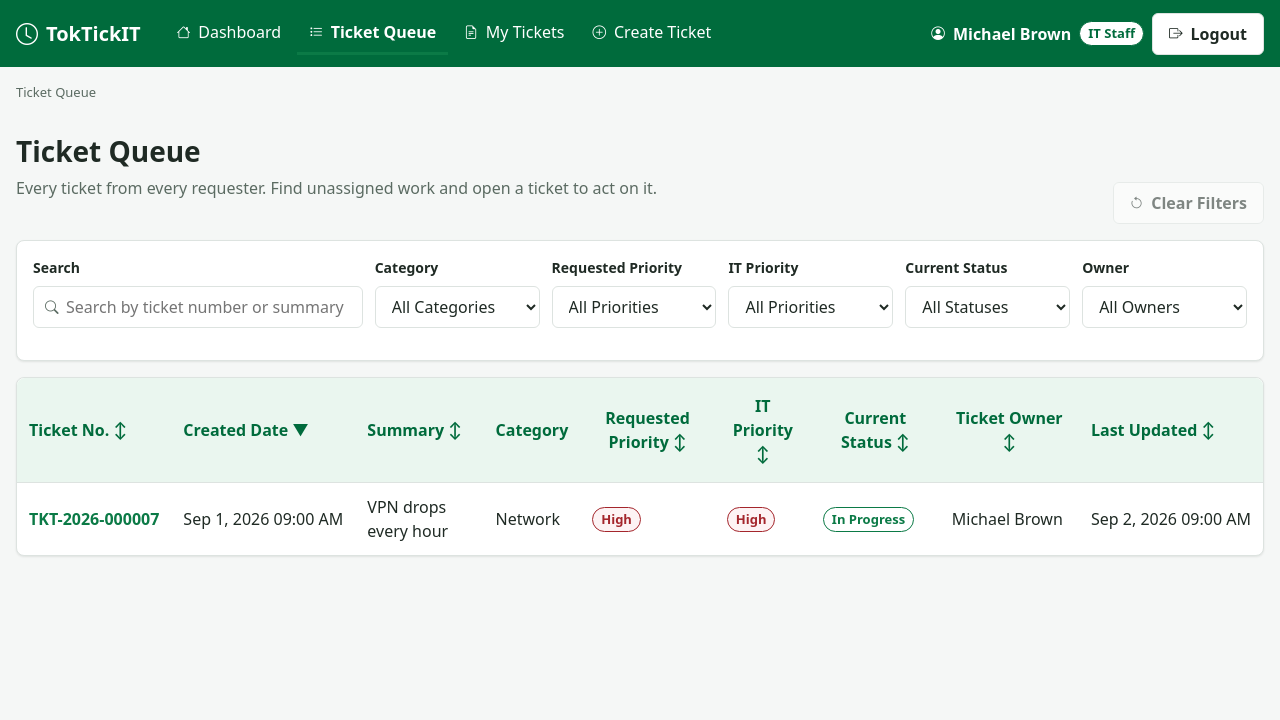
it: UI-12 empty and no-results are different › says nothing matches, with Clear Filters, when a filter is on
Expected: the table is shown, [17, 378, 1263, 555]
Select "Unassigned" in the dropdown labelled "Owner" at (1165, 307), box [1082, 286, 1247, 328]
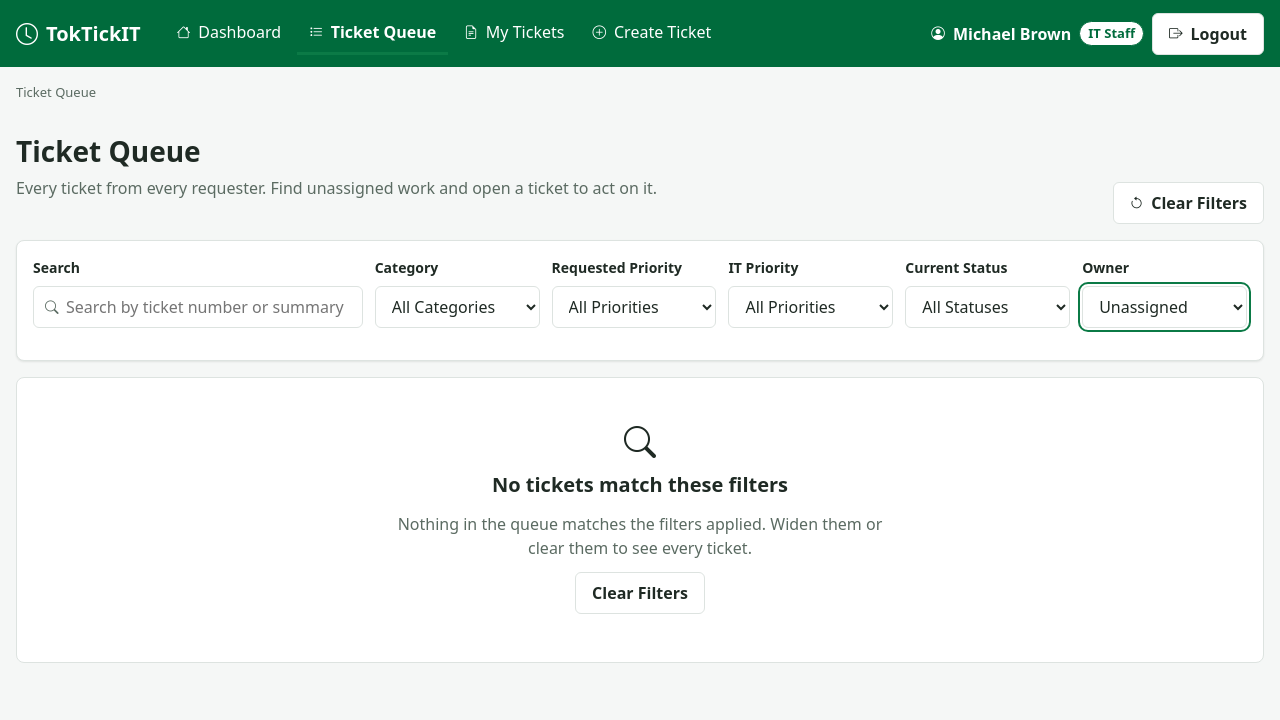
Expected: the text "No tickets match these filters" is shown, [492, 470, 788, 500]
Click the button "Clear Filters" below "No tickets match these filters".
click(640, 593)  # box [575, 572, 705, 614]
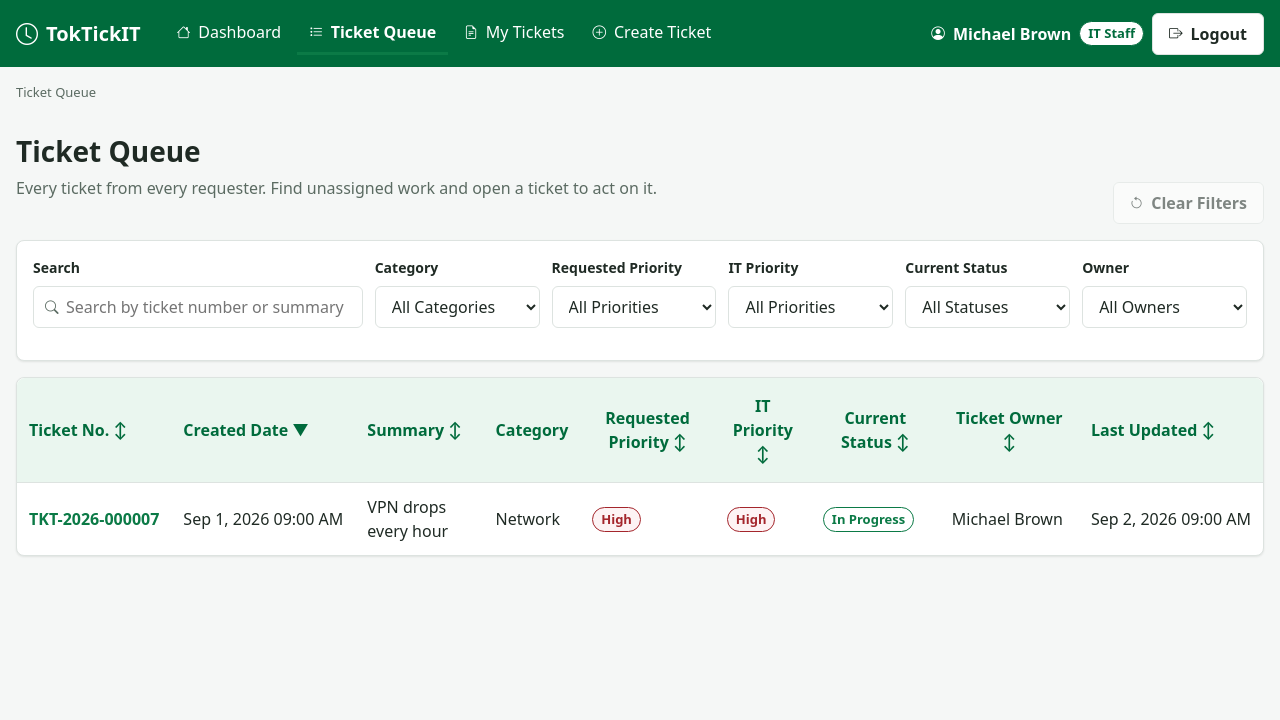
Expected: the table is shown, [17, 378, 1263, 555]
